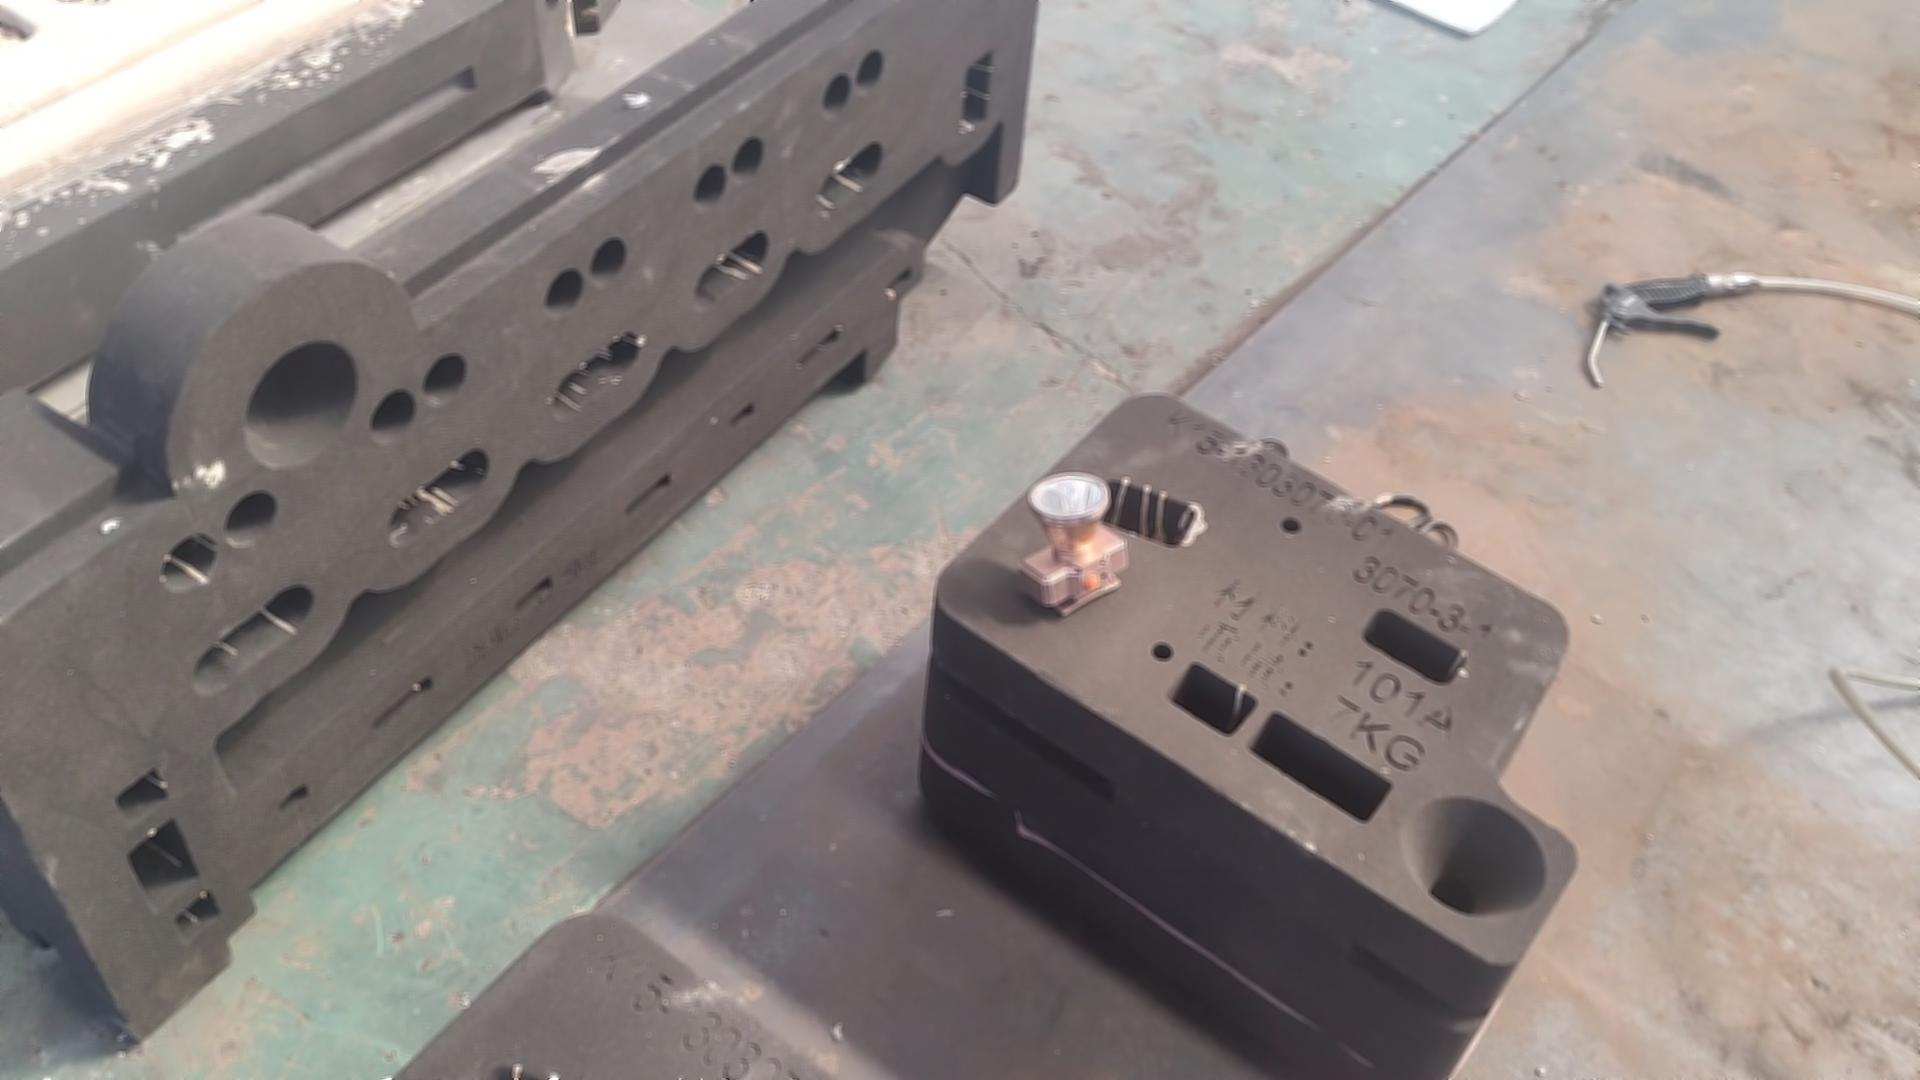pouring hole: (1402, 796, 1547, 919), (245, 339, 357, 469)
